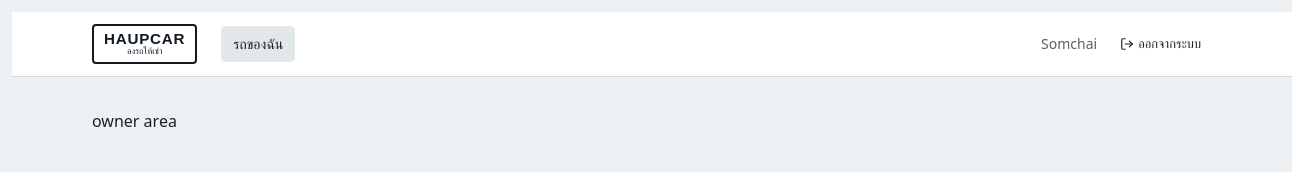
Scenario: logging out goes to login without remembering the page
The width and height of the screenshot is (1292, 172).
Click the button "ออกจากระบบ": (1161, 44) 1109,30 -> 1212,58
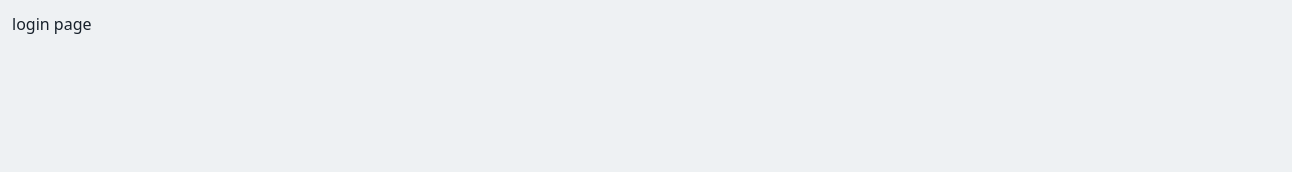
Check: the text "login page" is shown, box 12,13 -> 92,35
